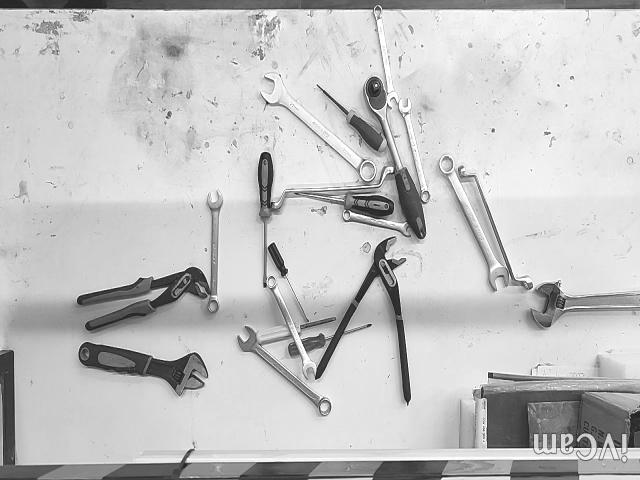Adjustable spanner: (79, 342, 208, 397), (531, 279, 640, 328)
Gas wrench: (315, 236, 411, 405), (77, 267, 210, 332)
Ratchet: (364, 77, 426, 240)
Screwdriver: (318, 86, 388, 153), (268, 242, 309, 323), (288, 324, 372, 356), (294, 191, 394, 216), (256, 317, 335, 345), (258, 152, 273, 288)
Wrench: (261, 73, 376, 183), (439, 155, 509, 292), (458, 165, 533, 291), (238, 325, 332, 415), (271, 166, 395, 210), (266, 274, 316, 381), (398, 97, 430, 203), (374, 5, 399, 109), (207, 190, 224, 313), (342, 210, 411, 237)
